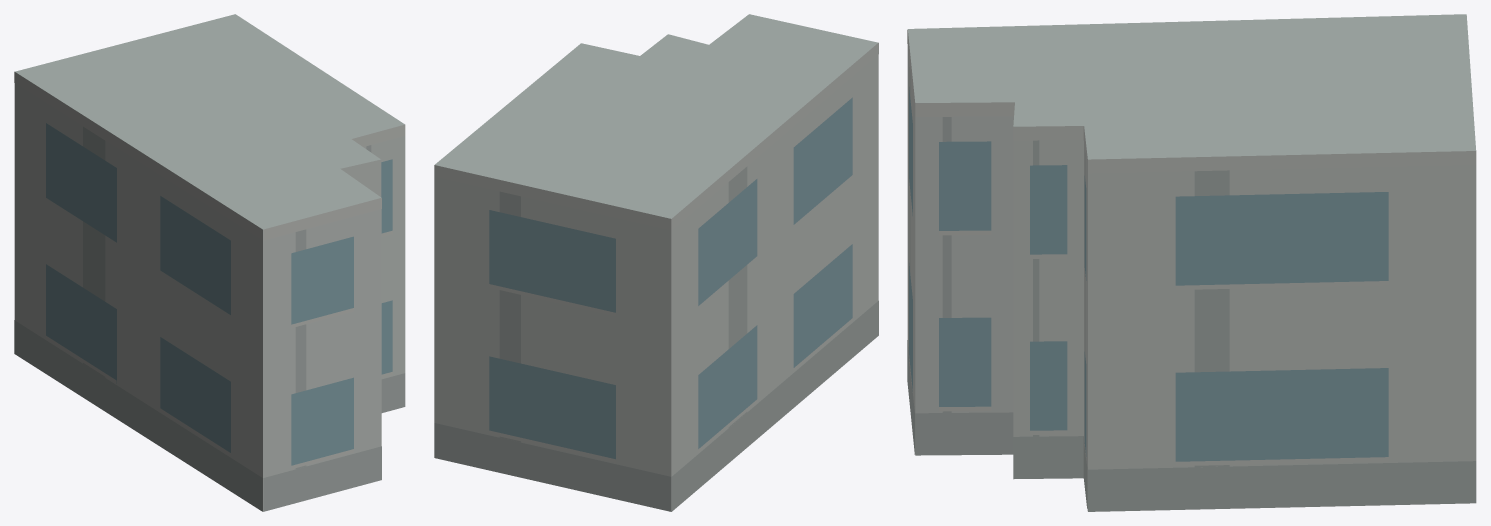
File: survey-upis-33007330.glb
3 renders of one model, left to right at view 1: azimuth 30°, elevation 25°; view 2: azimuth 150°, elevation 25°; view 3: azimuth 270°, elevation 25°, orthographic. The views are drawn at different scales.
Visible parts, largest first — view 1: survey-upis-33007330.tmp; view 2: survey-upis-33007330.tmp; view 3: survey-upis-33007330.tmp.
Boxes of the visible parts, x1,y1,x2,y2 form: survey-upis-33007330.tmp: (14,14,405,511); survey-upis-33007330.tmp: (434,14,878,511); survey-upis-33007330.tmp: (907,14,1476,511).
Size of the model in its own units: 5.41 by 6.1 by 8.93.
